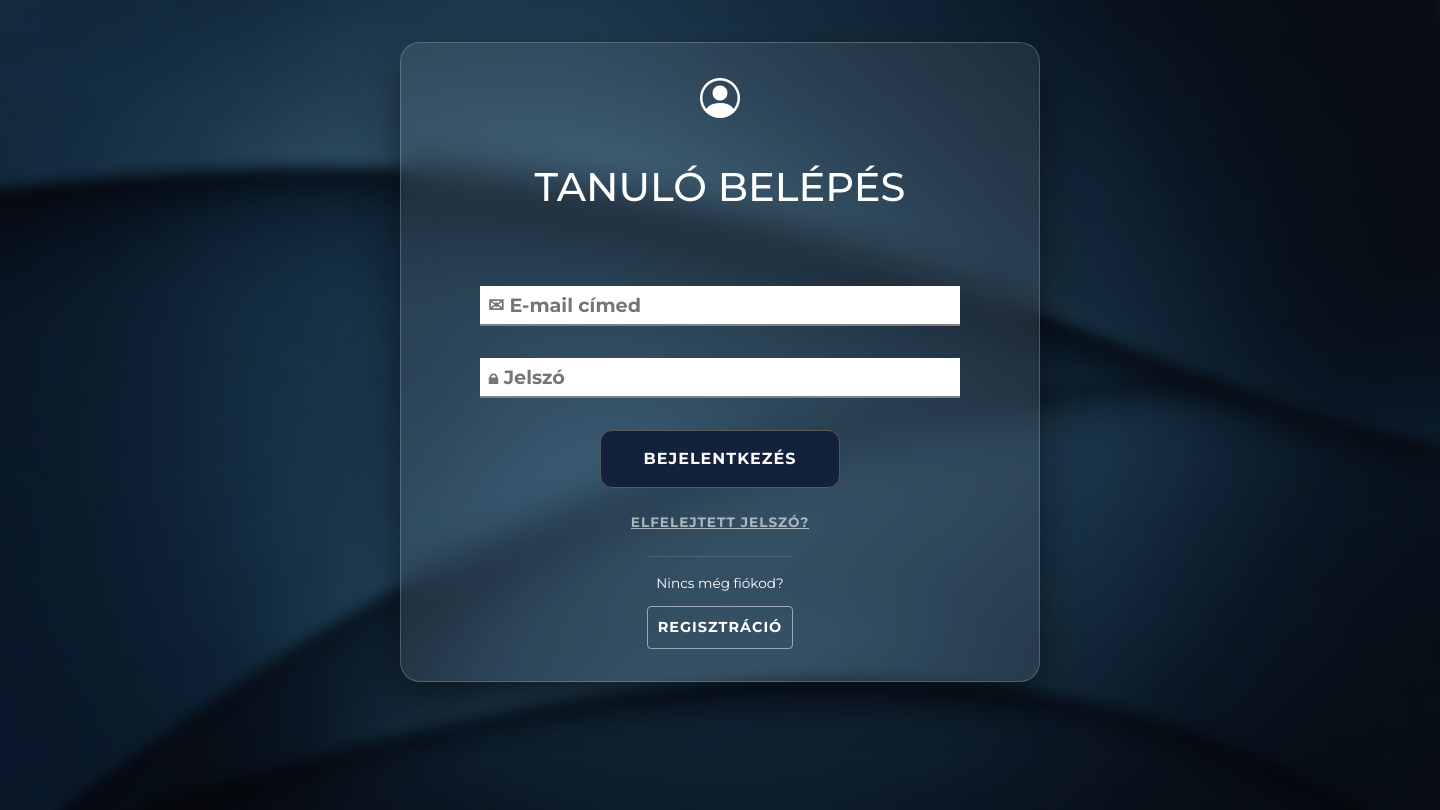
Test: StudentSiteComp – Tanuló bejelentkezés › megnyitja az elfelejtett jelszó modalt
The width and height of the screenshot is (1440, 810).
(page scrolled)
Click the button "Elfelejtett jelszó?".
click(720, 522)  # box [600,496,840,548]
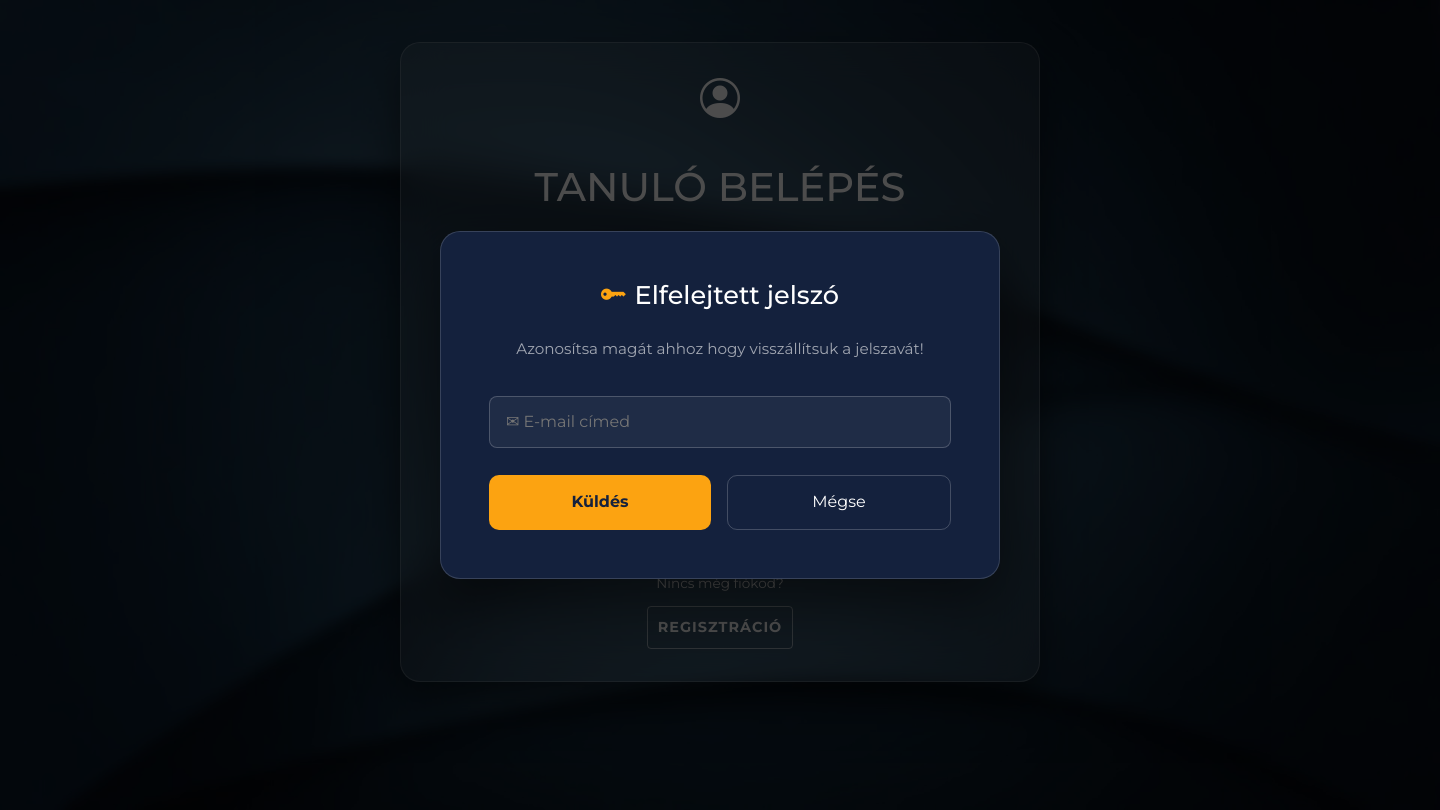
Result: the text "Azonosítsa magát ahhoz hogy visszállítsuk a jelszavát!" is shown at [489,338,951,361]
